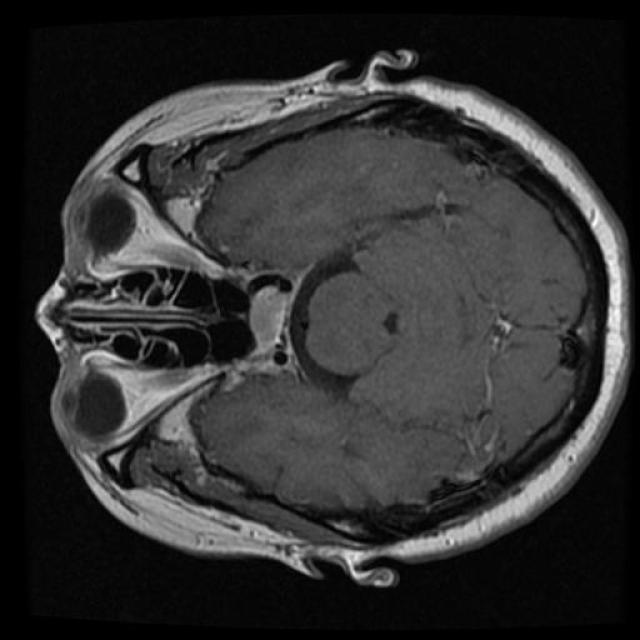Pituitary: (221, 261, 316, 392)
